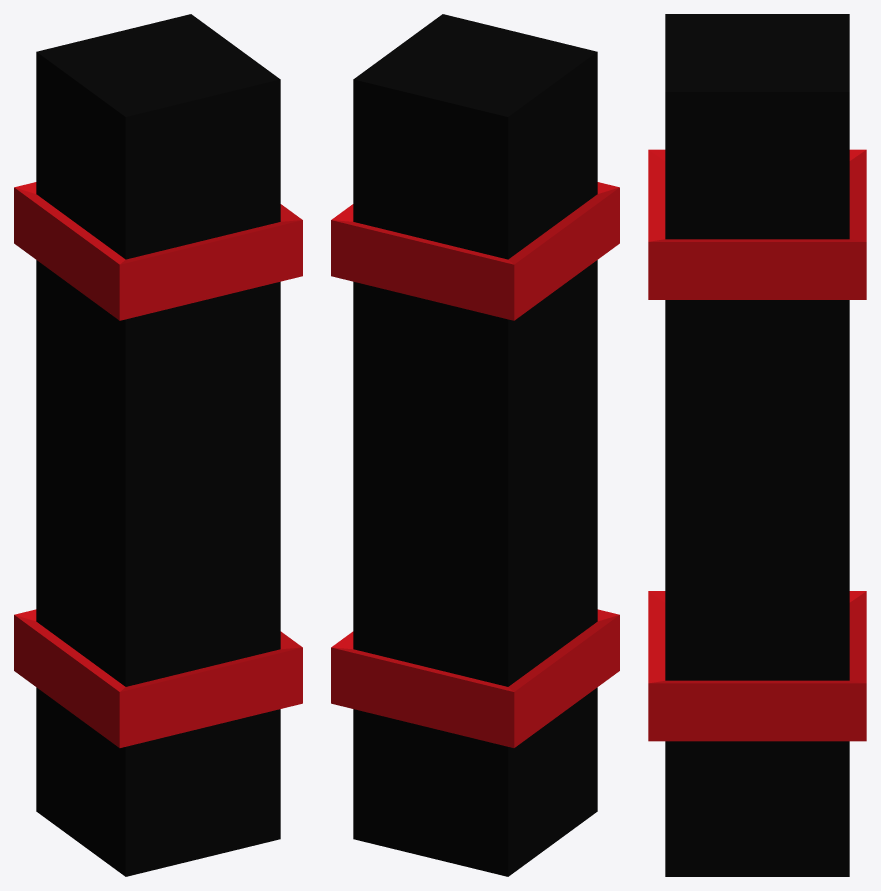
The model's file is RedBeam.fbx.
The picture shows the model from 3 angles, left to right: view 1: azimuth 30°, elevation 25°; view 2: azimuth 150°, elevation 25°; view 3: azimuth 270°, elevation 25°; orthographic projection. The views are drawn at different scales.
Visible parts, largest first — view 1: Cube; view 2: Cube; view 3: Cube.
Part boxes in pixels (x1,y1,x2,y2): Cube: [14, 14, 302, 876]; Cube: [331, 14, 619, 876]; Cube: [648, 14, 866, 876].
Bounding box in the file's own units: 237 × 938 × 237.
